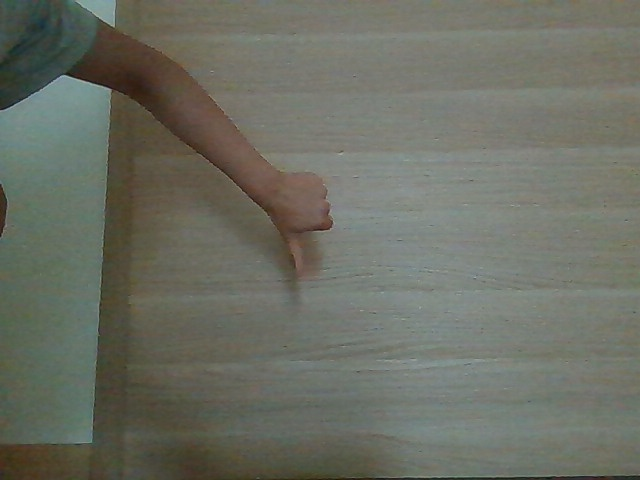Thumbs down: (256, 152, 354, 286)
